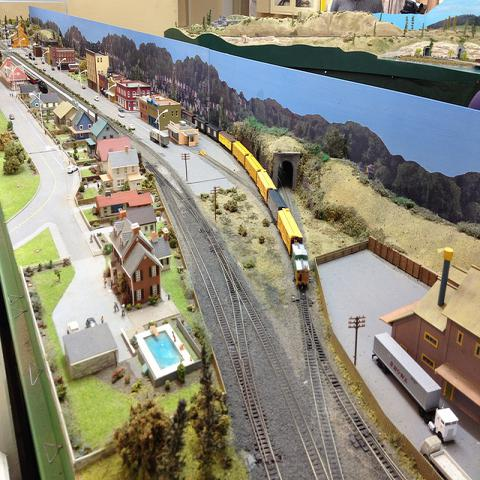truck: (372, 331, 457, 443)
